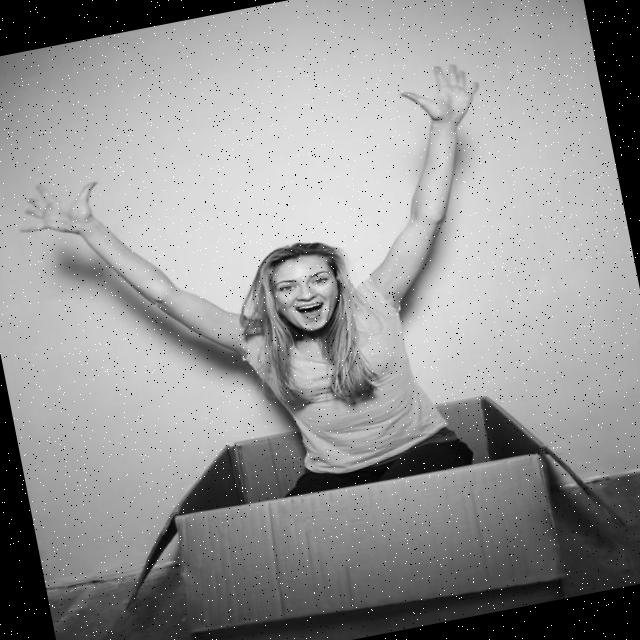Happiness: (264, 246, 348, 341)
